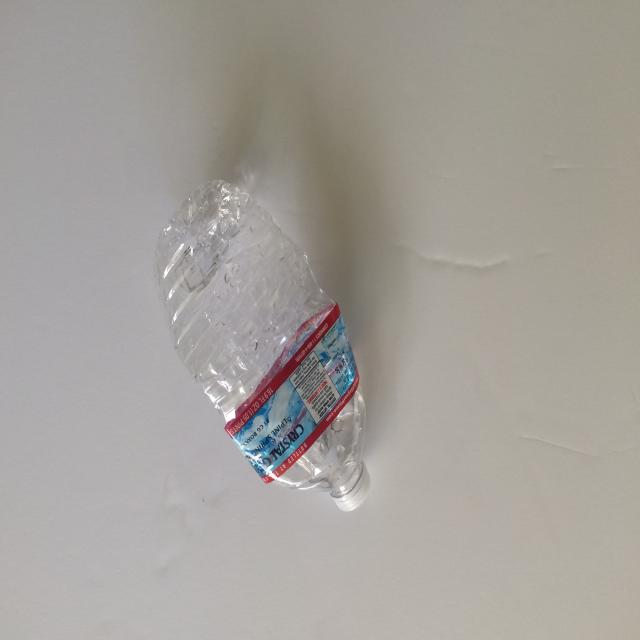plastic: (153, 177, 370, 512)
